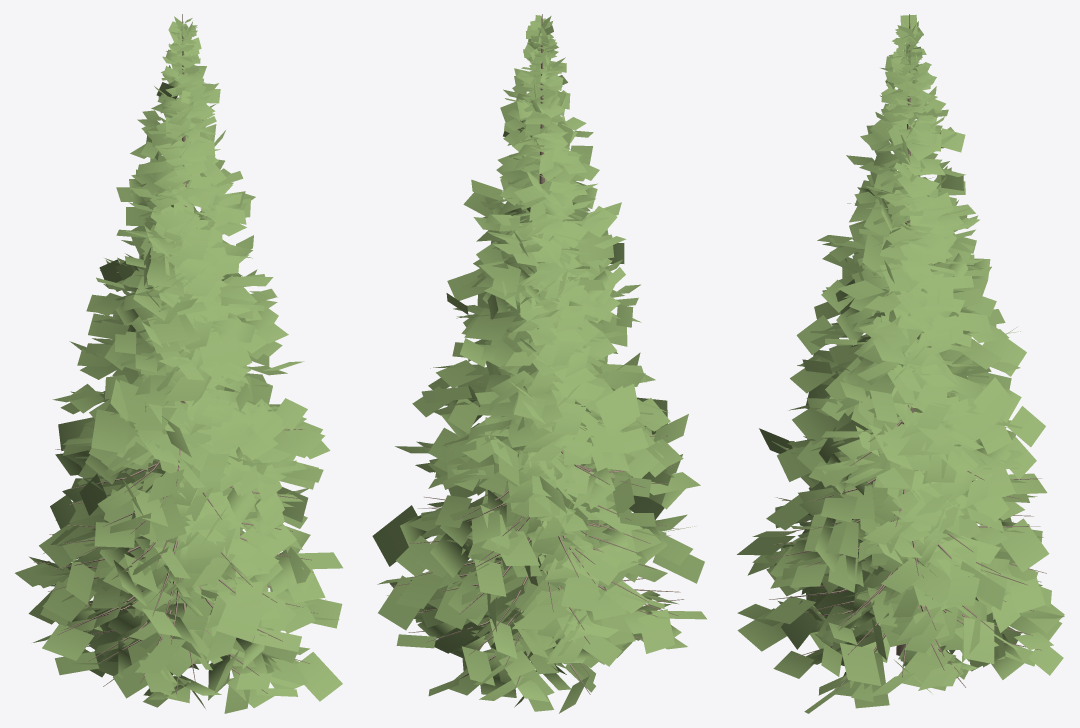
File: Conifer_3_lod1.glb
3 renders of one model, left to right at view 1: azimuth 30°, elevation 25°; view 2: azimuth 150°, elevation 25°; view 3: azimuth 270°, elevation 25°, orthographic.
Visible parts, largest first — view 1: Conifer_3_lod1; view 2: Conifer_3_lod1; view 3: Conifer_3_lod1.
Boxes of the visible parts, box(x1,y1,x2,y2) form: Conifer_3_lod1: box(15, 14, 342, 713); Conifer_3_lod1: box(372, 14, 706, 713); Conifer_3_lod1: box(737, 14, 1064, 713).
Size of the model in its own units: 6.85 by 14.43 by 6.54.
